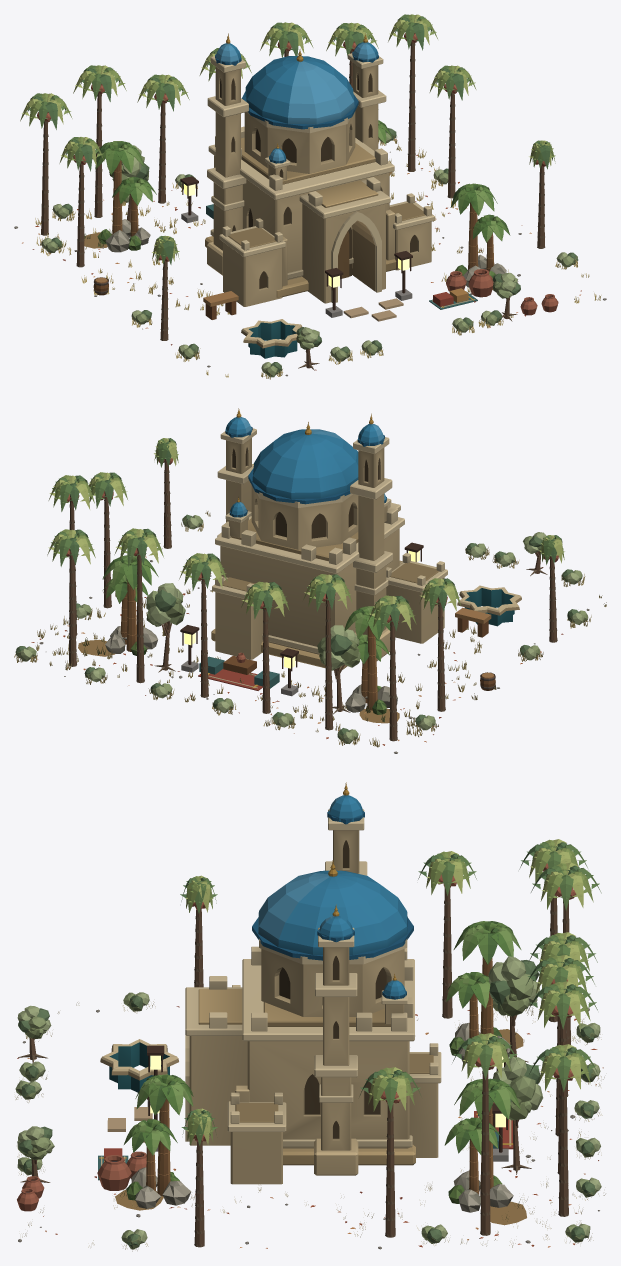
The model's file is baghdad.glb.
3 renders of one model, top to bottom at view 1: azimuth 30°, elevation 25°; view 2: azimuth 150°, elevation 25°; view 3: azimuth 270°, elevation 25°, orthographic. The views are drawn at different scales.
Parts seen in each view (by area): view 1: baghdad; view 2: baghdad; view 3: baghdad.
Boxes of the visible parts, x1,y1,x2,y2 form: baghdad: (14,14,606,379); baghdad: (14,408,606,753); baghdad: (15,782,605,1251).
Size of the model in its own units: 7.85 by 4.64 by 7.8.
